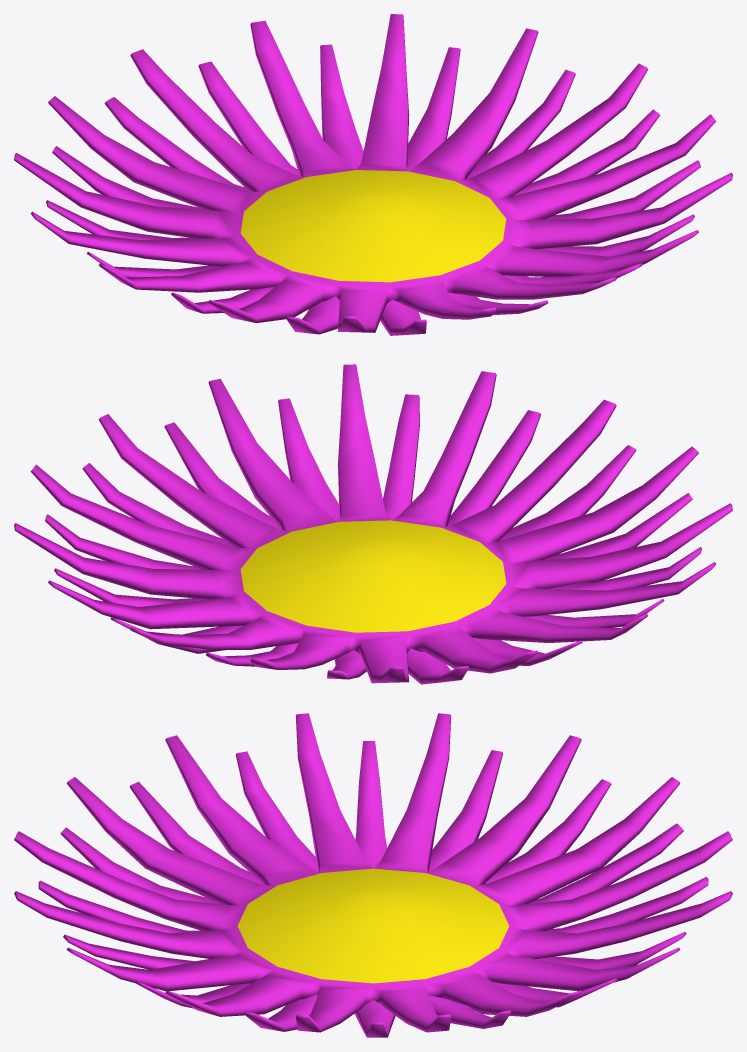
Rendered from JumpFlower.fbx.
3 views of the same model, one above another, from view 1: azimuth 30°, elevation 25°; view 2: azimuth 150°, elevation 25°; view 3: azimuth 270°, elevation 25° (orthographic).
Parts seen in each view (by area): view 1: JumpFlower; view 2: JumpFlower; view 3: JumpFlower.
Boxes of the visible parts, x1=… form: JumpFlower: x1=14, y1=14, x2=732, y2=335; JumpFlower: x1=14, y1=364, x2=732, y2=684; JumpFlower: x1=14, y1=713, x2=732, y2=1037.
Size of the model in its own units: 0.1017 by 0.0141 by 0.1019.
